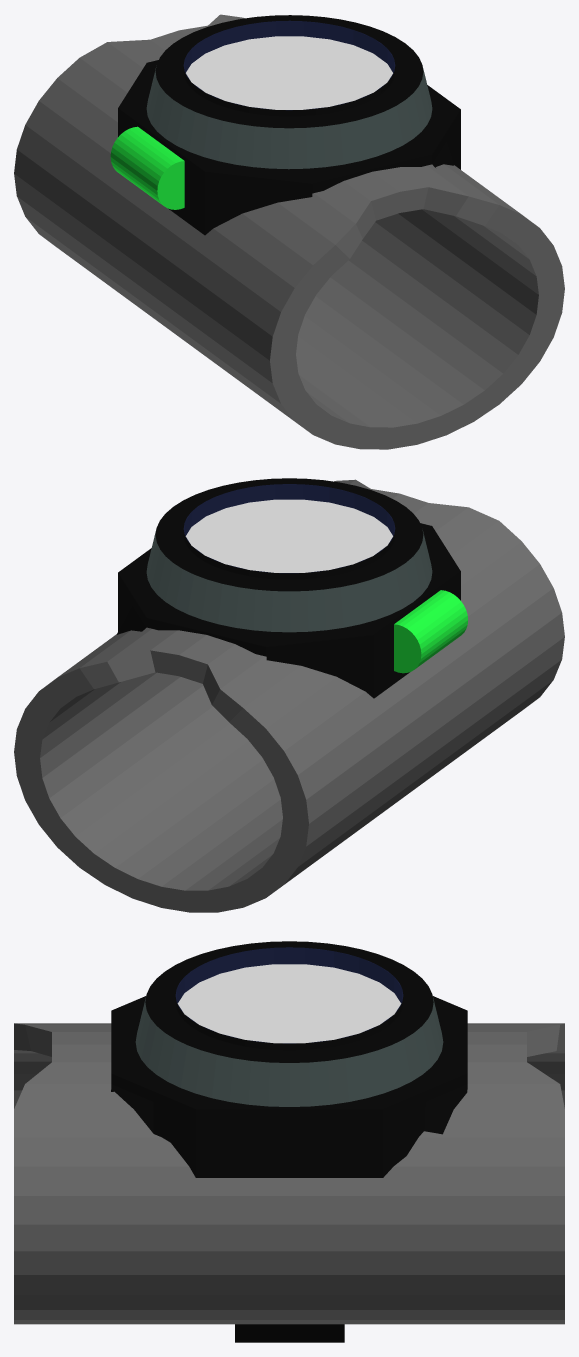
The model's file is demo.glb.
3 views of the same model, one above another, from view 1: azimuth 30°, elevation 25°; view 2: azimuth 150°, elevation 25°; view 3: azimuth 270°, elevation 25° (orthographic). The views are drawn at different scales.
Visible parts, largest first — view 1: strap, base; view 2: strap, base; view 3: strap, base.
Part boxes in pixels (bbox=[...]): strap: bbox=[14, 14, 564, 449]; base: bbox=[110, 15, 460, 235]; strap: bbox=[14, 479, 564, 912]; base: bbox=[116, 478, 467, 698]; strap: bbox=[14, 1023, 564, 1342]; base: bbox=[111, 941, 467, 1177].
Size of the model in its own units: 6.86 by 6.48 by 10.04.
Materials: 5 (1 with a texture image).
